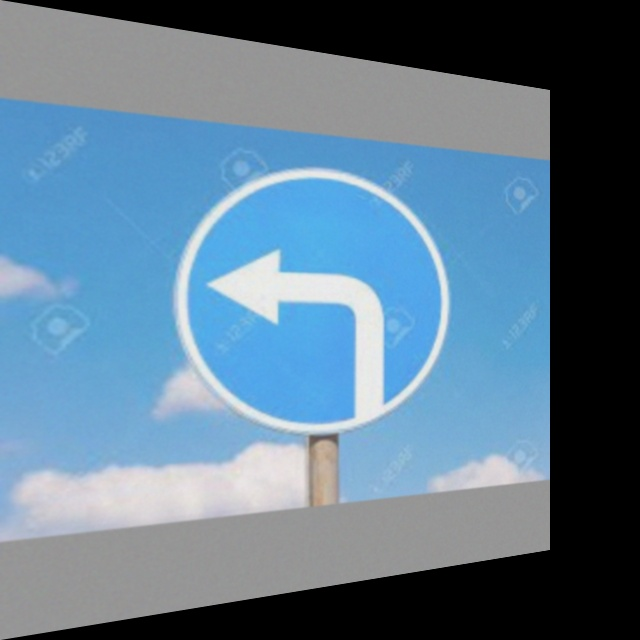Compulsory_Turn_Left_Ahead: (175, 158, 447, 433)
